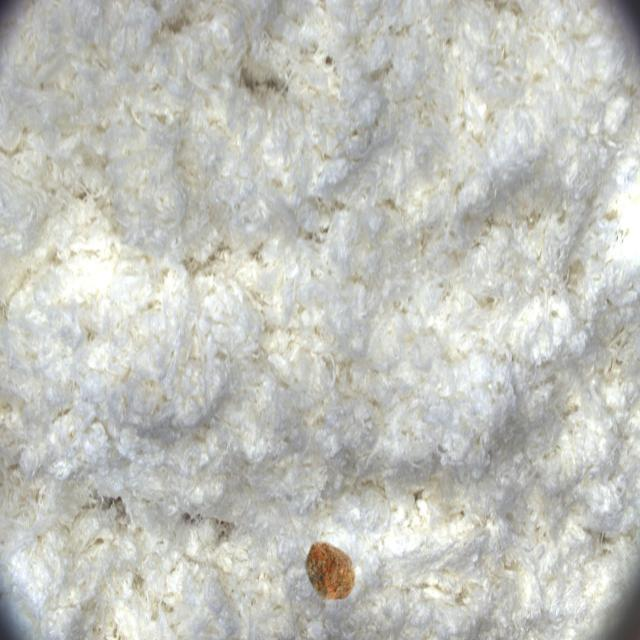dust: (285, 515, 385, 630)
